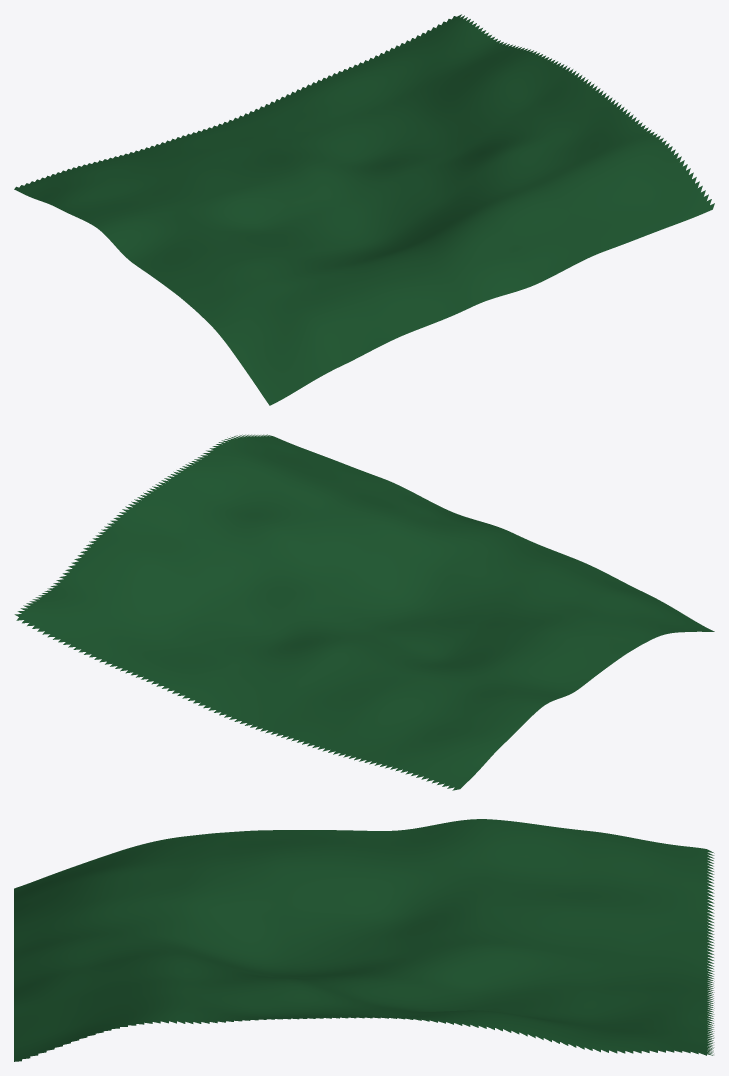
File: payo_land_x2_ym1.glb
3 views of the same model, one above another, from view 1: azimuth 30°, elevation 25°; view 2: azimuth 150°, elevation 25°; view 3: azimuth 270°, elevation 25° (orthographic). The views are drawn at different scales.
Visible parts, largest first — view 1: payo_land_x2_ym1; view 2: payo_land_x2_ym1; view 3: payo_land_x2_ym1.
Boxes of the visible parts, x1,y1,x2,y2 form: payo_land_x2_ym1: (14,14,714,405); payo_land_x2_ym1: (14,434,714,790); payo_land_x2_ym1: (14,819,714,1061).
Bounding box in the file's own units: 258 × 67.58 × 258.
